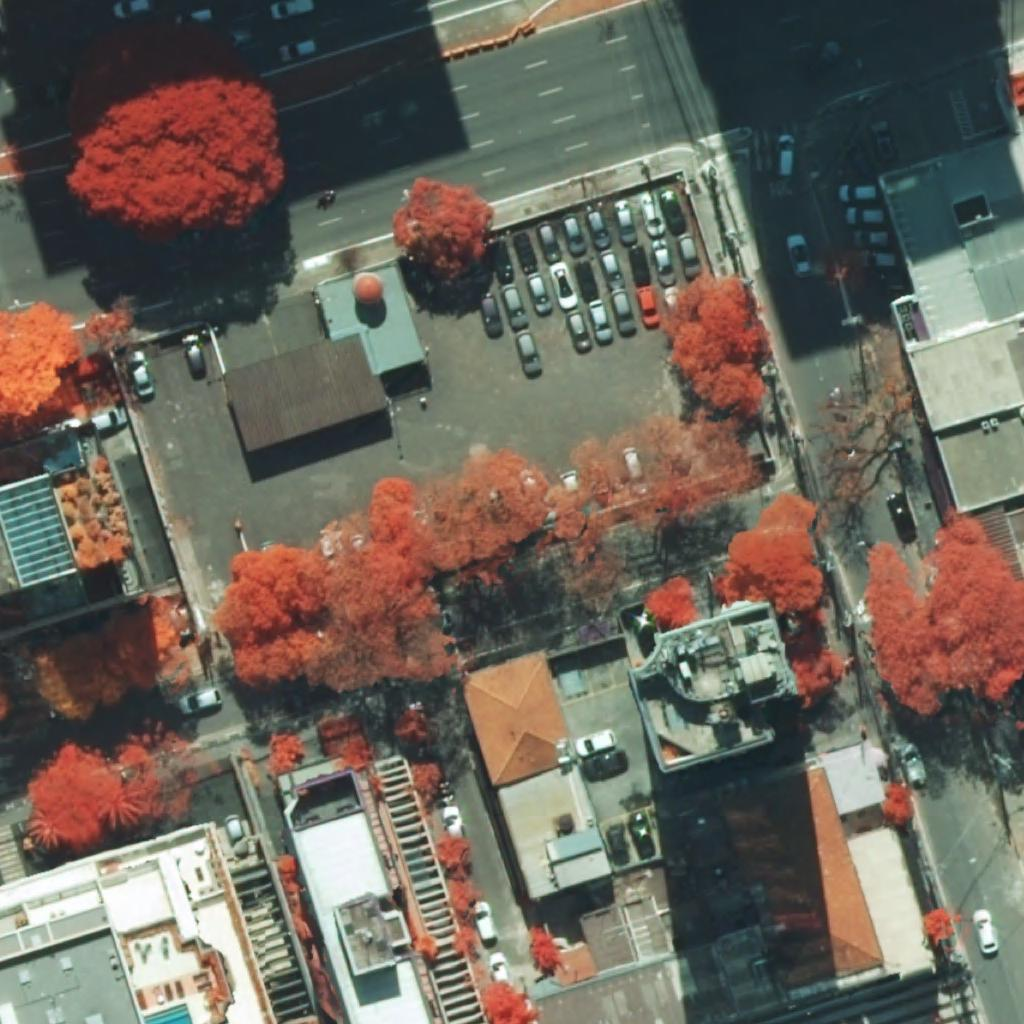pool: (142, 1002, 193, 1024)
